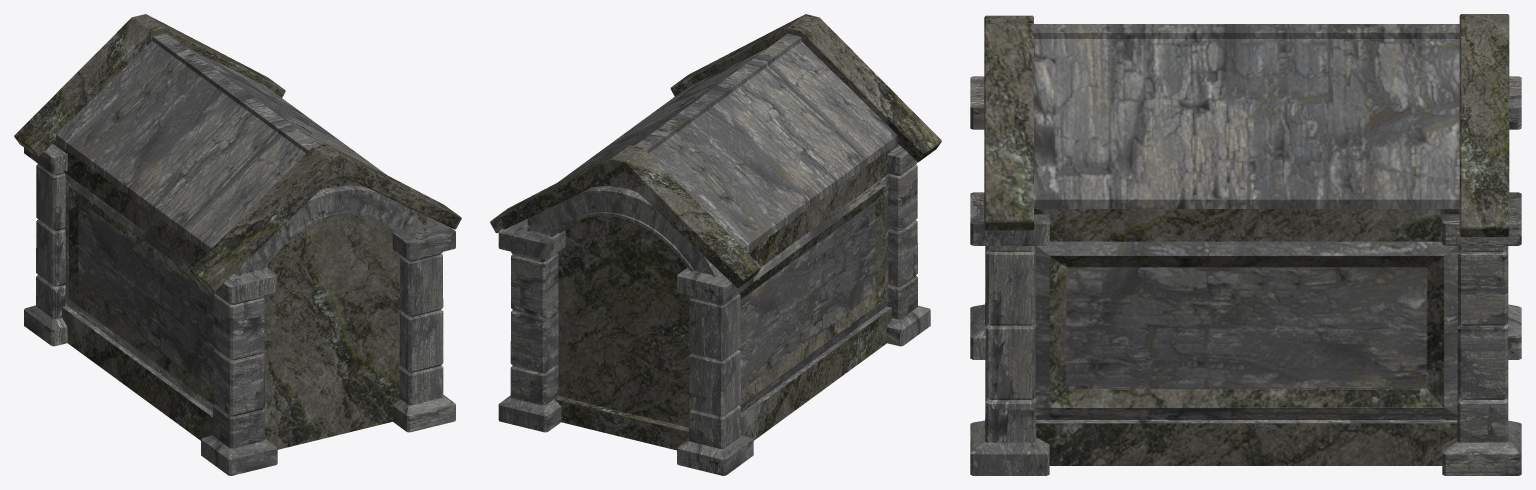
The model's file is tomb_2.glb.
3 renders of one model, left to right at view 1: azimuth 30°, elevation 25°; view 2: azimuth 150°, elevation 25°; view 3: azimuth 270°, elevation 25°, orthographic. The views are drawn at different scales.
Visible parts, largest first — view 1: Tomb 2, Tomb 2.1; view 2: Tomb 2, Tomb 2.1; view 3: Tomb 2, Tomb 2.1.
Boxes of the visible parts, x1=… form: Tomb 2: x1=14, y1=14, x2=461, y2=449; Tomb 2.1: x1=24, y1=143, x2=455, y2=475; Tomb 2: x1=490, y1=14, x2=941, y2=450; Tomb 2.1: x1=498, y1=145, x2=930, y2=475; Tomb 2: x1=984, y1=14, x2=1509, y2=465; Tomb 2.1: x1=970, y1=76, x2=1521, y2=475.
Bounding box in the file's own units: 1.86 × 1.98 × 2.6.
Materials: 2 (2 with a texture image).
